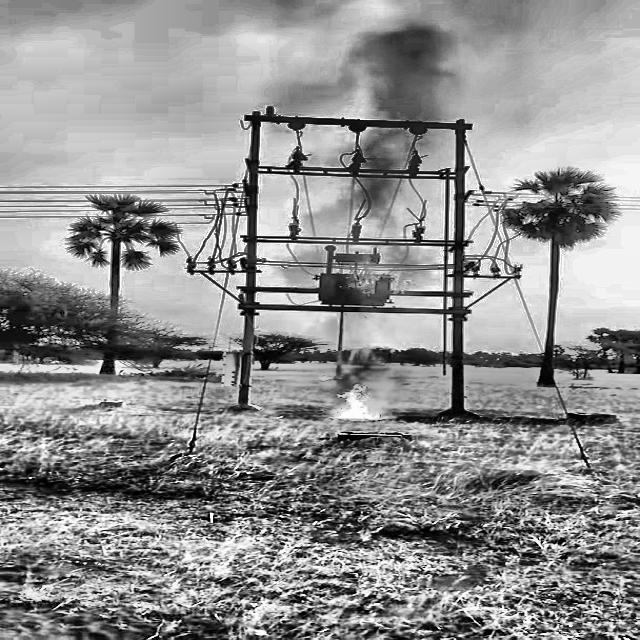Fire: (324, 250, 419, 306), (318, 374, 394, 426)
